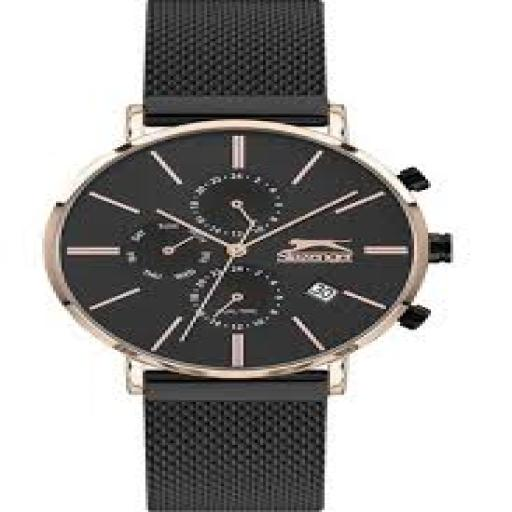KolSaati: (35, 0, 458, 512)
